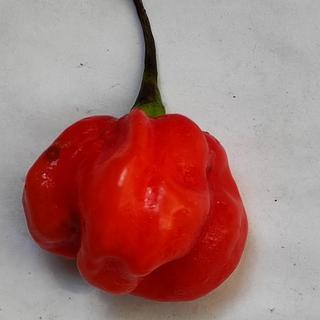Grade-B: (14, 104, 254, 304)
